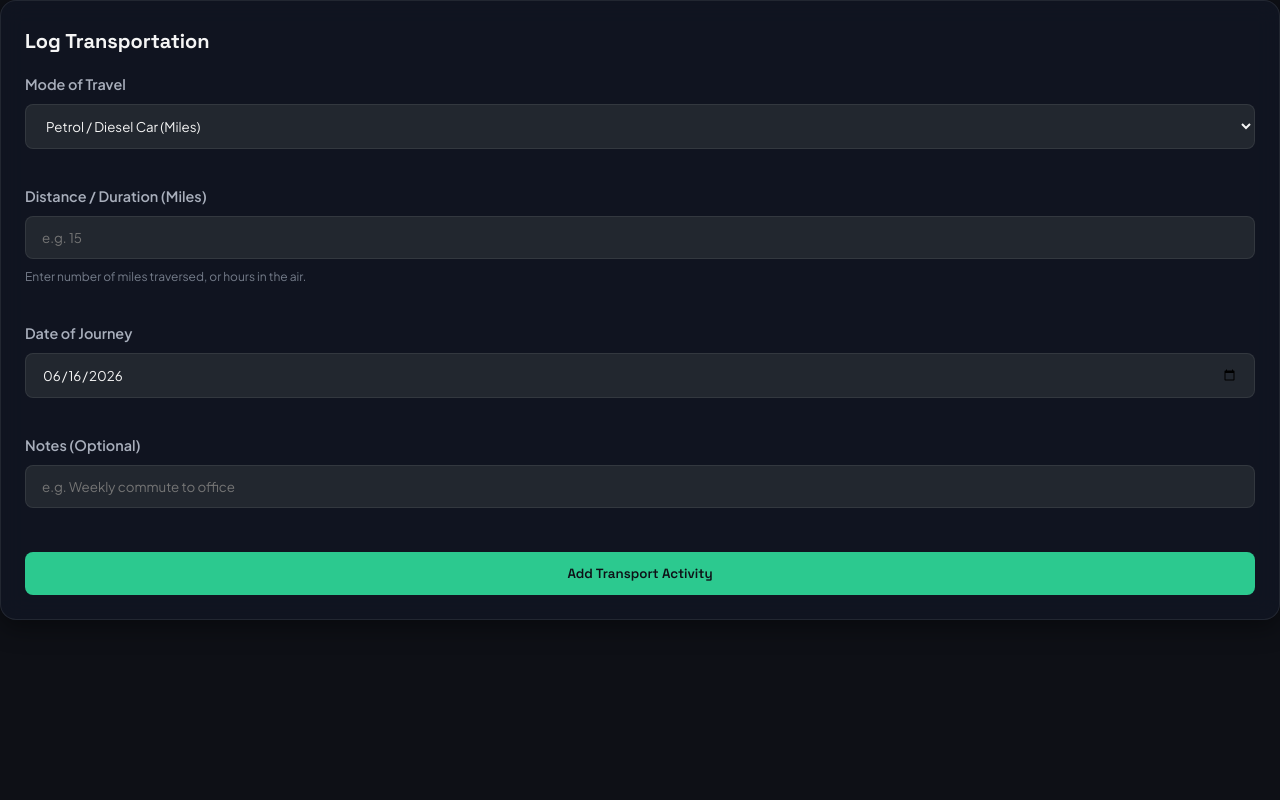
Test case: TransportForm Component › handles negative or zero values with error banners
Enter invalid quantity
In the number field labelled "Distance / Duration (Miles)": {"x": 640, "y": 238} [25,216,1255,259], type "-10"
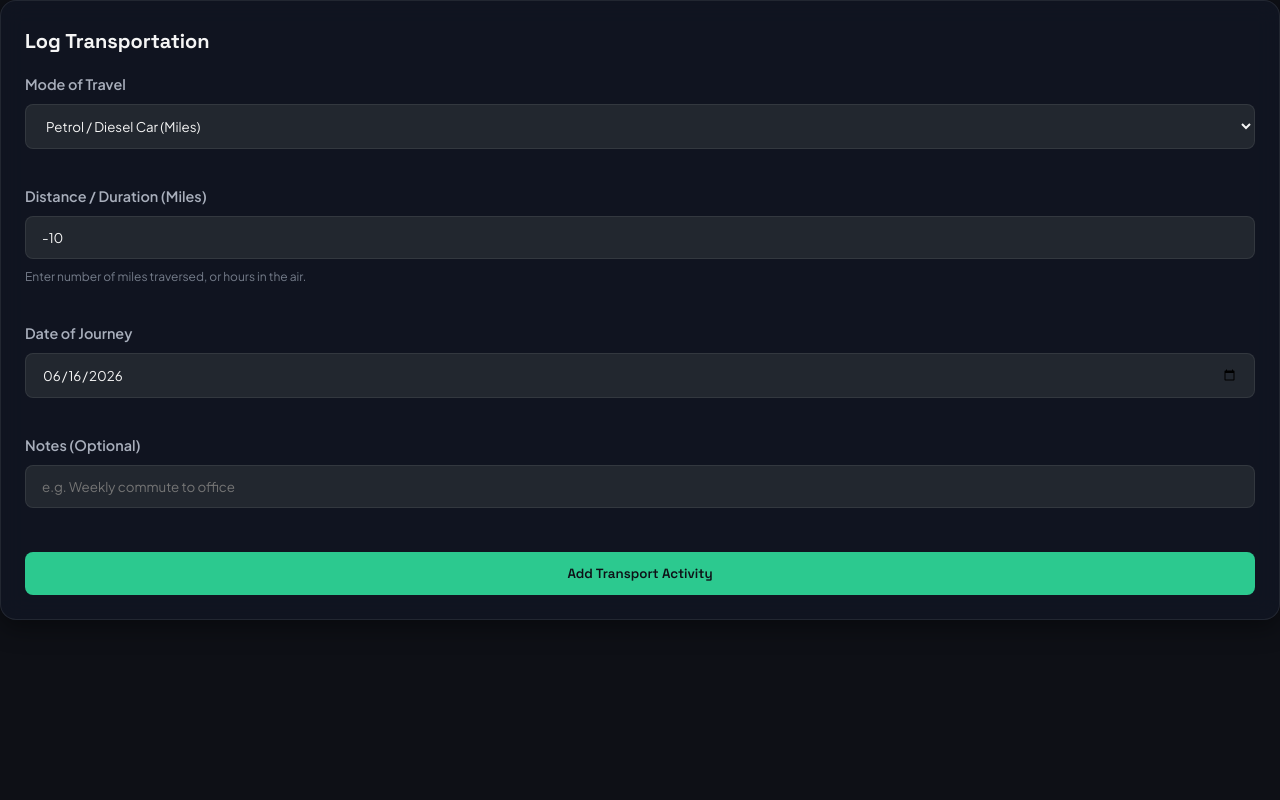
Click the button "Add Transport Activity": {"x": 640, "y": 574} [25,552,1255,595]
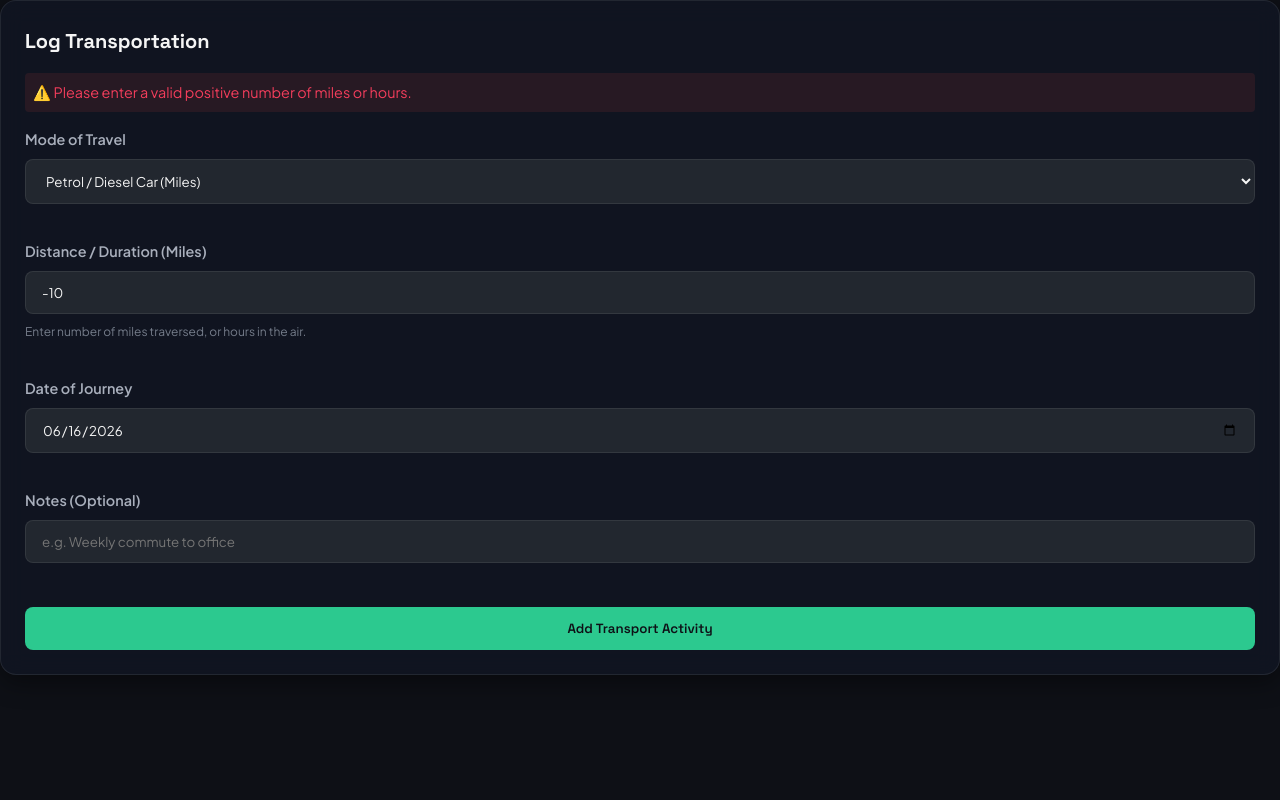
Now the message shows "Please enter a valid positive number", box [53,83,412,101]
